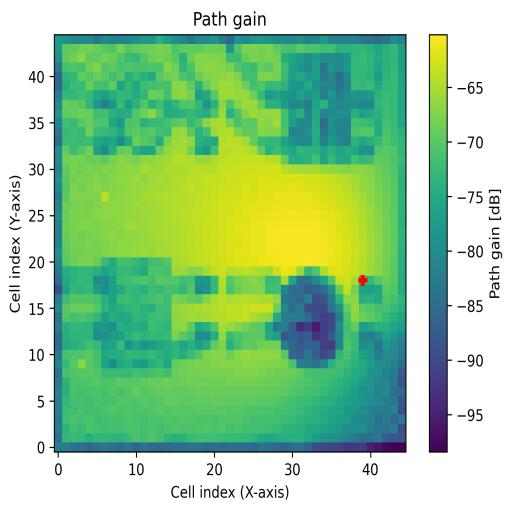Concrete: (283, 51, 374, 164)
Glass: (94, 55, 172, 155)
Metal: (281, 265, 343, 369)
Wood: (100, 257, 172, 375)
